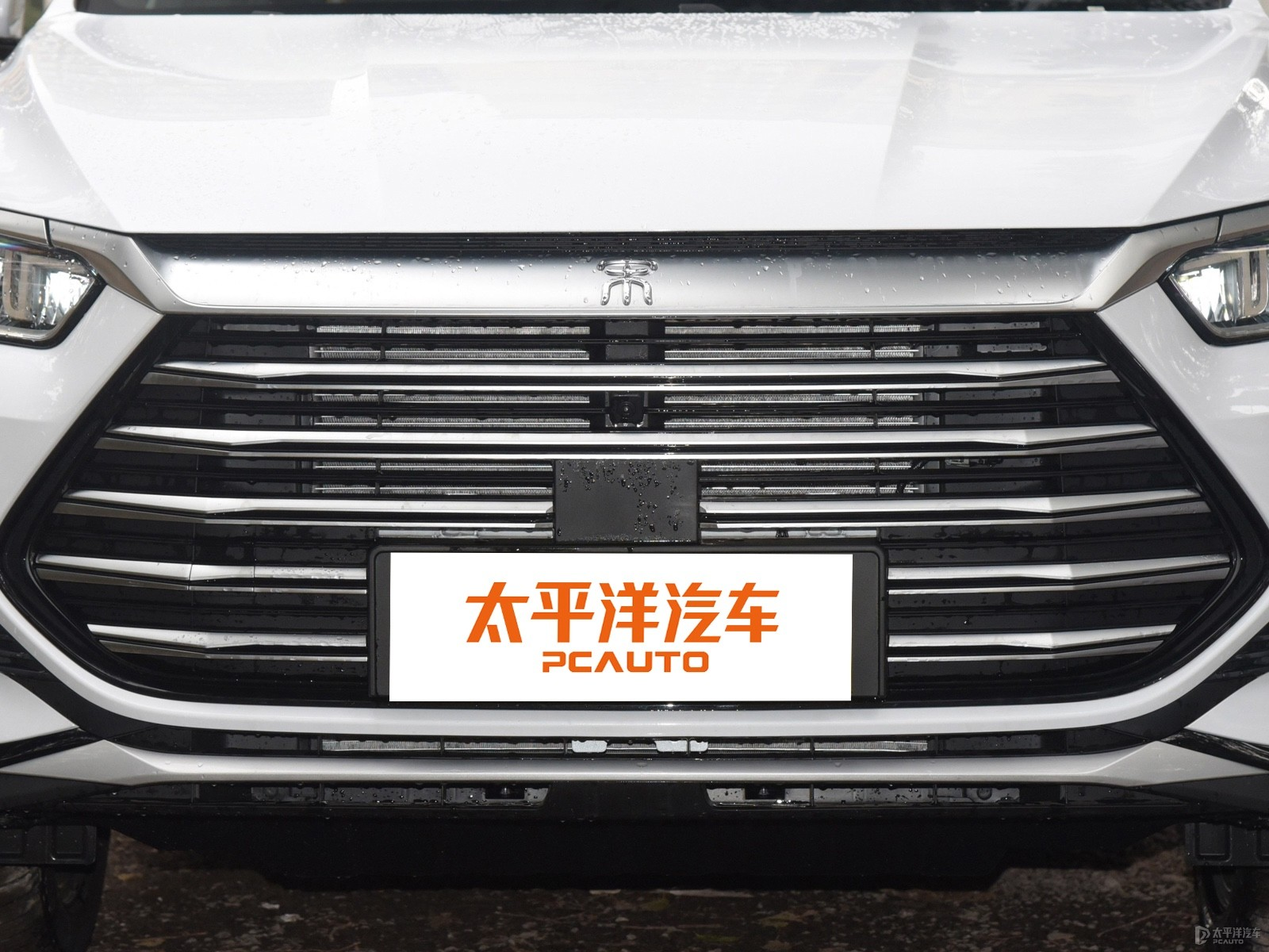BYD Song: (597, 255, 657, 305)
